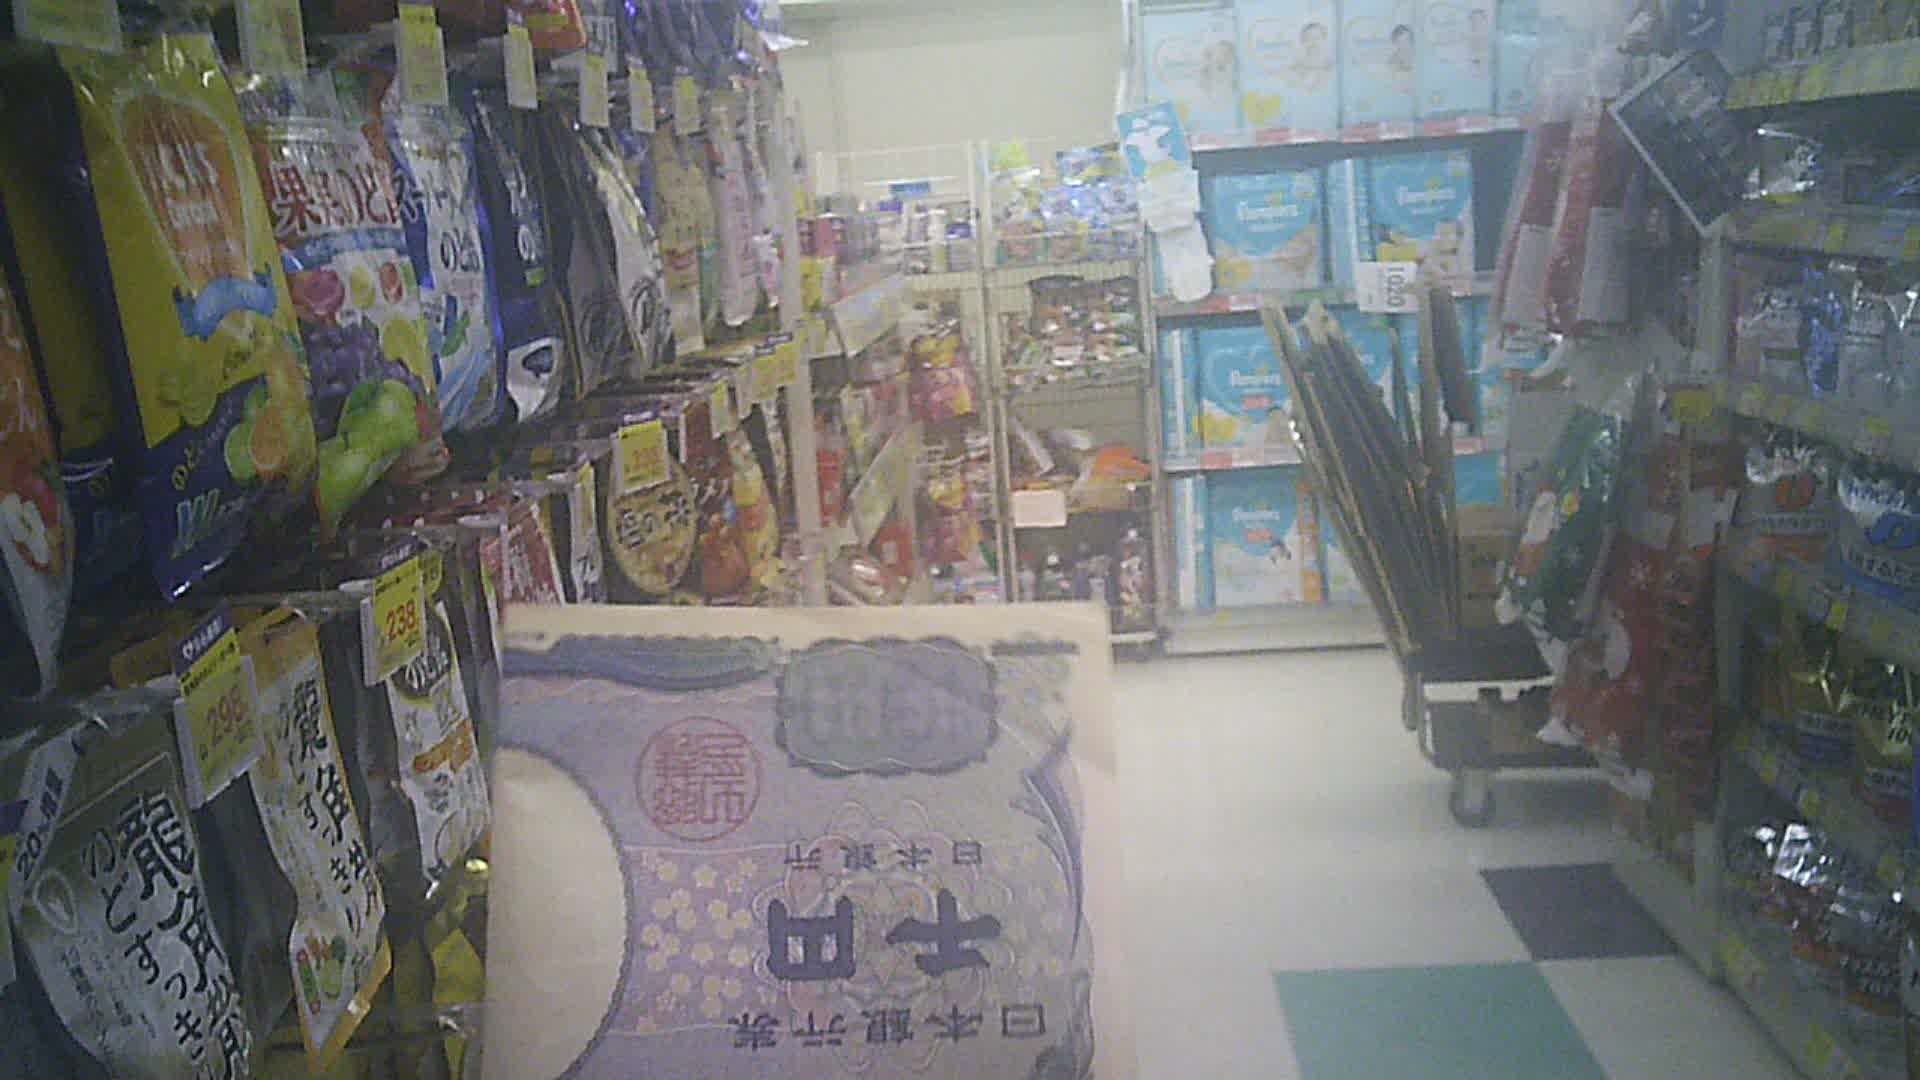1,000 Yen: (487, 587, 1126, 1079)
